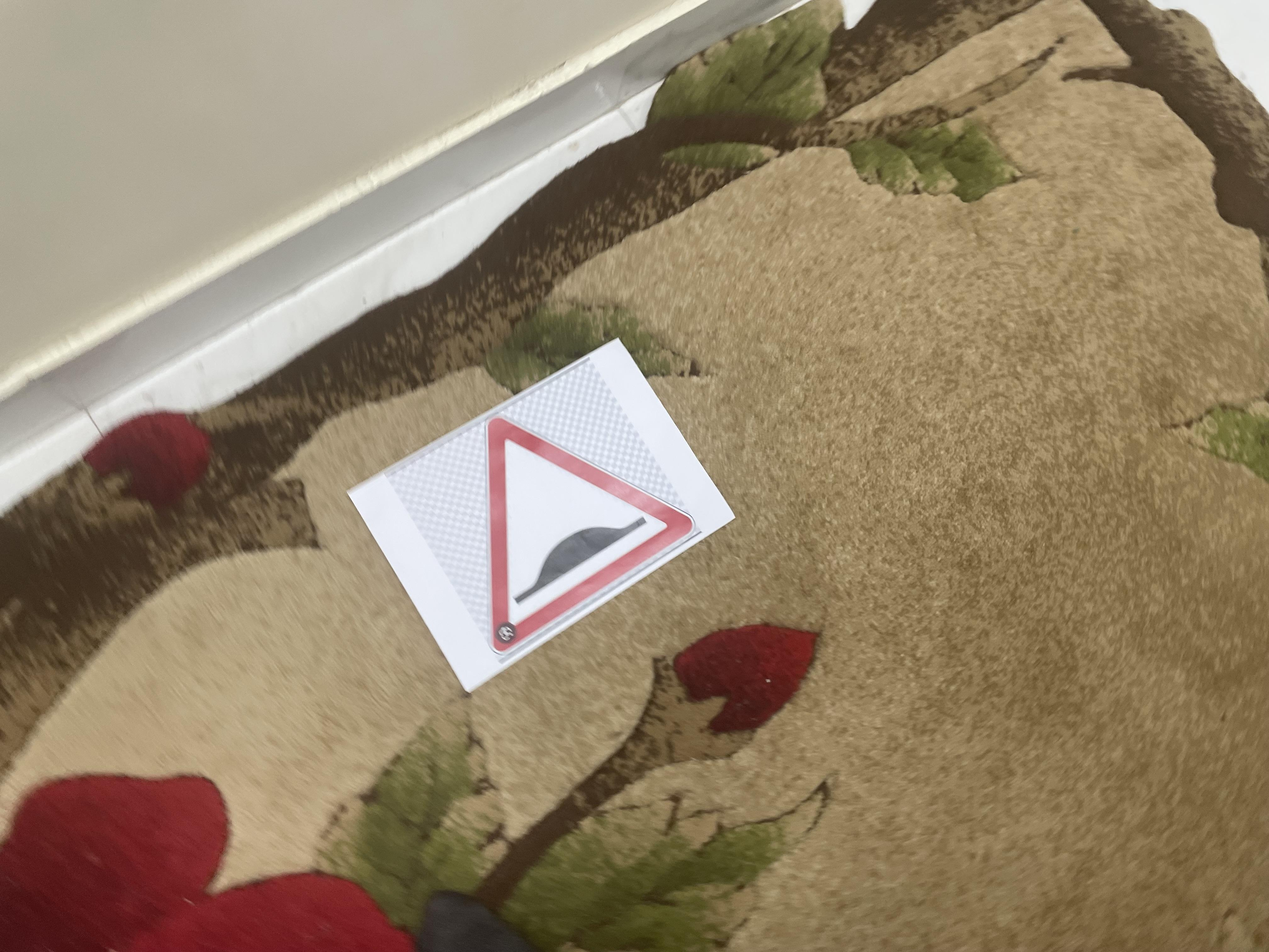Hump: (402, 343, 739, 524)
